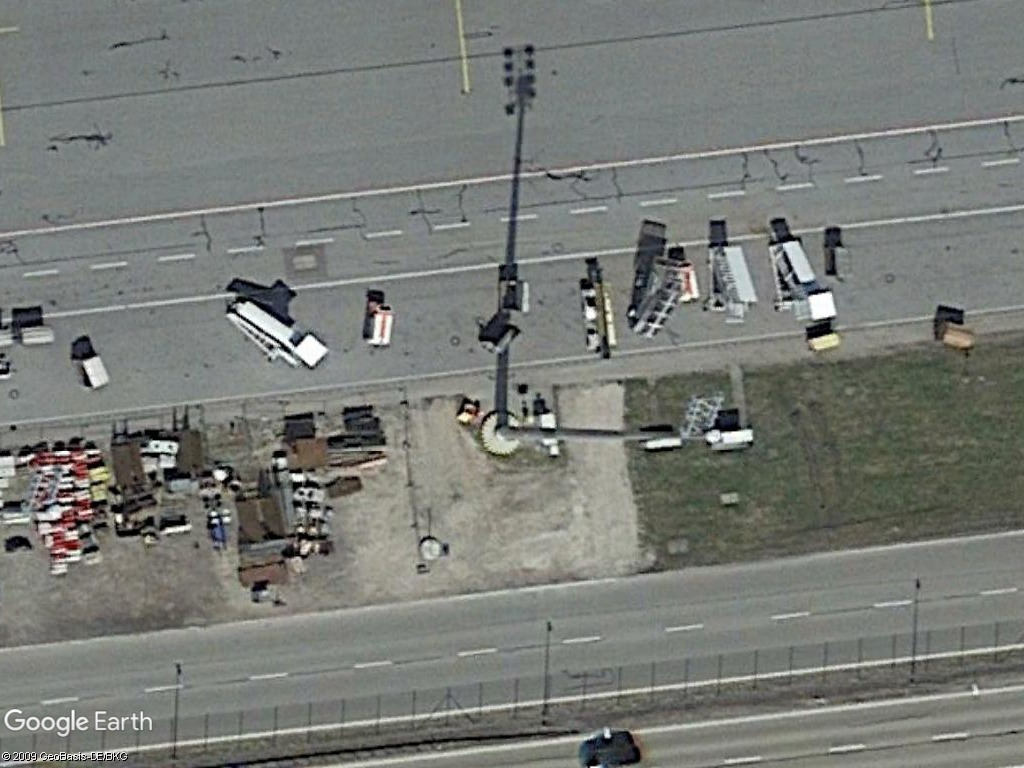stairtruck: (223, 298, 329, 375), (765, 234, 841, 325), (706, 236, 762, 328)
